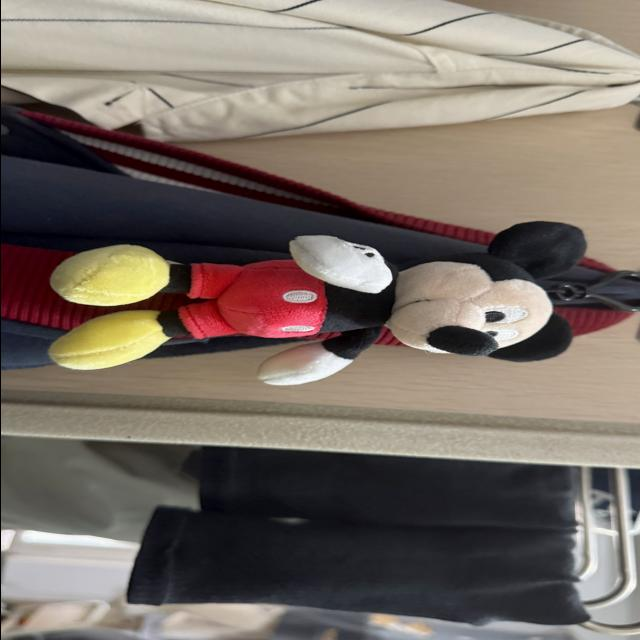mickey: (49, 222, 584, 385)
